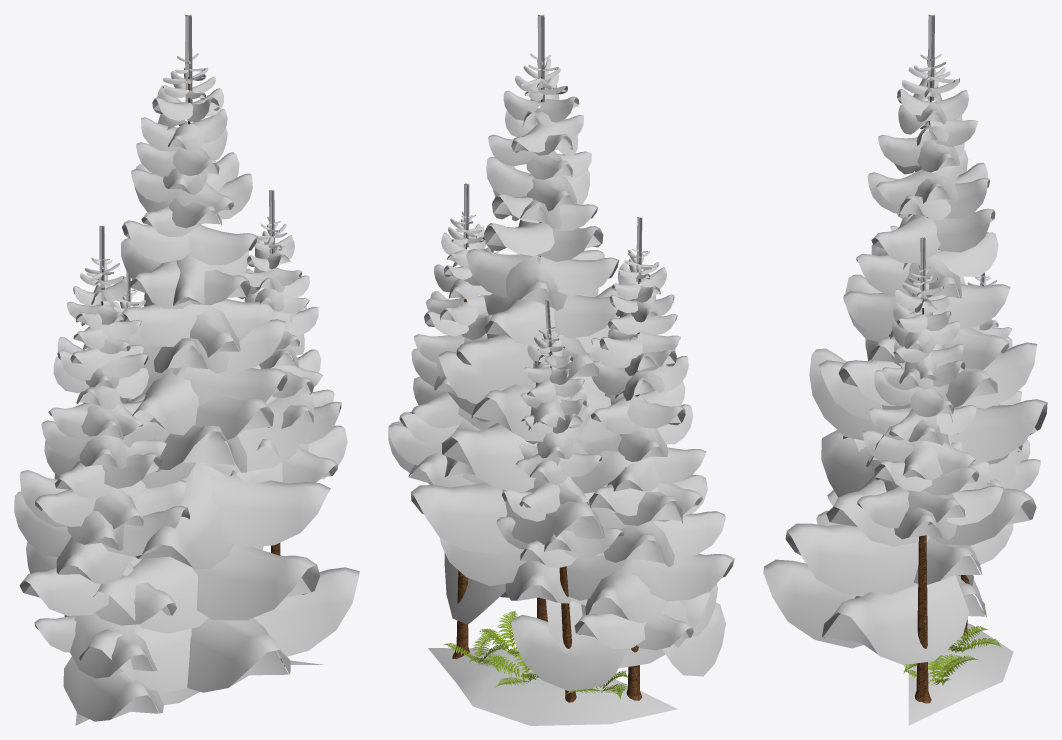
The model's file is foliageprefab_doubleperp001.fbx.
3 renders of one model, left to right at view 1: azimuth 30°, elevation 25°; view 2: azimuth 150°, elevation 25°; view 3: azimuth 270°, elevation 25°, orthographic. The views are drawn at different scales.
Parts seen in each view (by area): view 1: pPlane37; view 2: pPlane37; view 3: pPlane37.
Part boxes in pixels (x1,y1,x2,y2): pPlane37: (14, 14, 359, 725); pPlane37: (388, 15, 734, 725); pPlane37: (763, 14, 1047, 725).
Bounding box in the file's own units: 528 × 1026 × 406.
